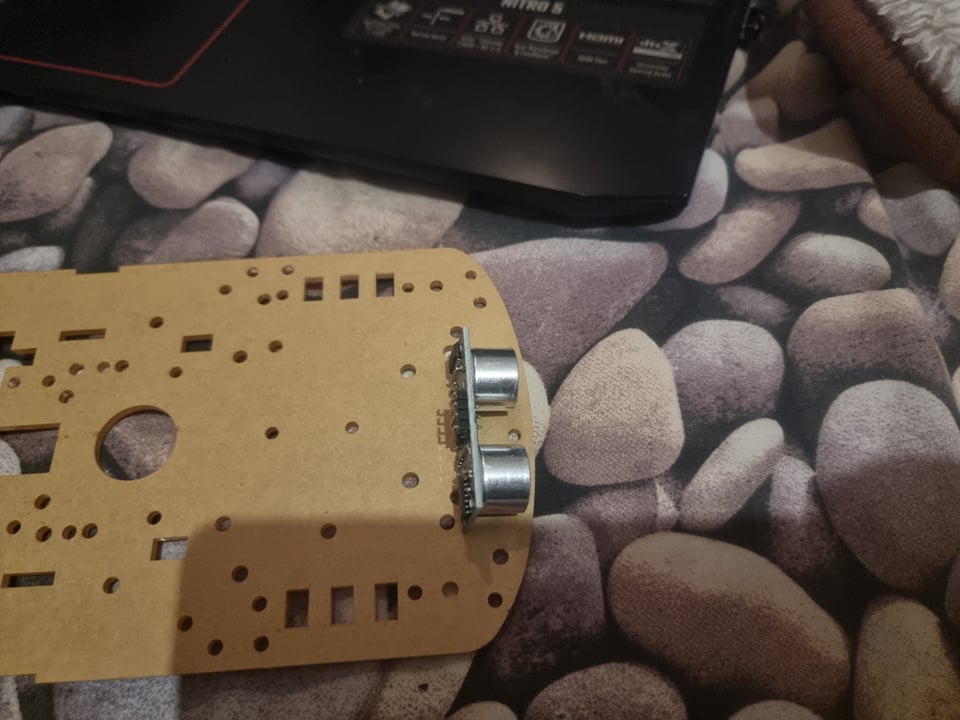SENSOR: (445, 329, 531, 533)
